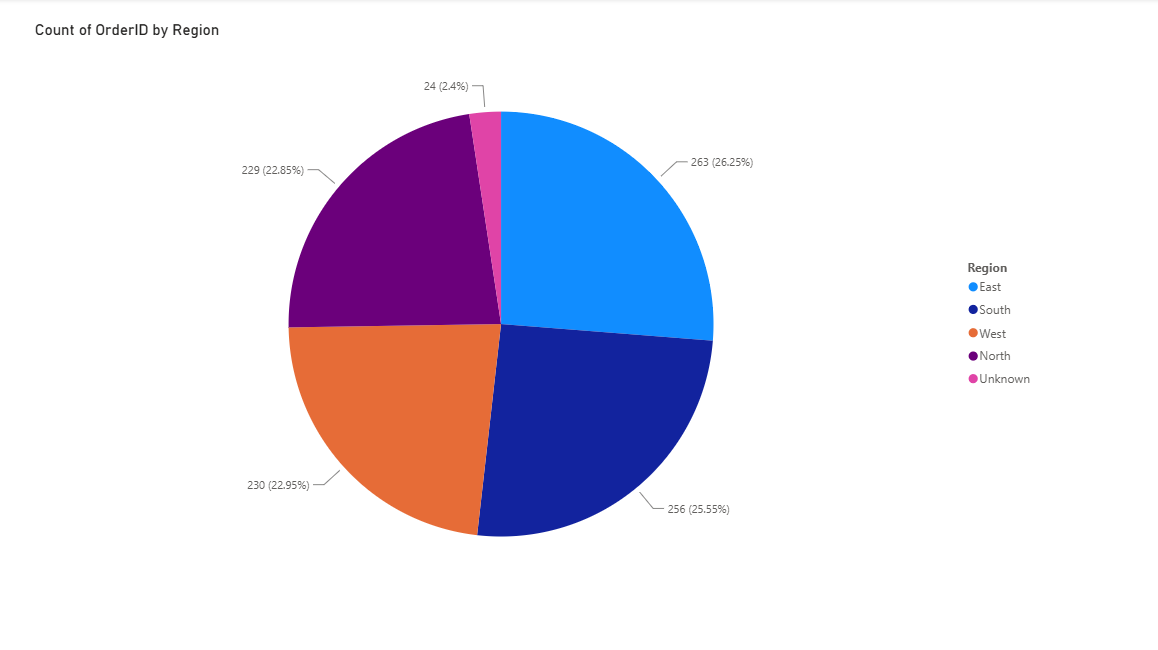

What the dashboard file says about the page in this screenshot:
{"tool":"powerbi","page":{"name":"Pie Chart","canvas":[1280,720],"ordinal":0},"visuals":[{"type":"pieChart","fields":{"Category":["SalesData_1000Rows_WithIssues_copy.Region"],"Y":["CountNonNull(SalesData_1000Rows_WithIssues_copy.OrderID)"]},"box":[35.7,24.7,1111.5,647.7],"z":0}]}

Visuals, with their boxes in screenshot pixels (x1, y1, x2, y2), scaled from the page's 1280x720 canvas onto the 1158x650 screenshot:
pieChart - SalesData_1000Rows_WithIssues_copy.Region x CountNonNull(SalesData_1000Rows_WithIssues_copy.OrderID): <bbox>32, 22, 1038, 607</bbox>
